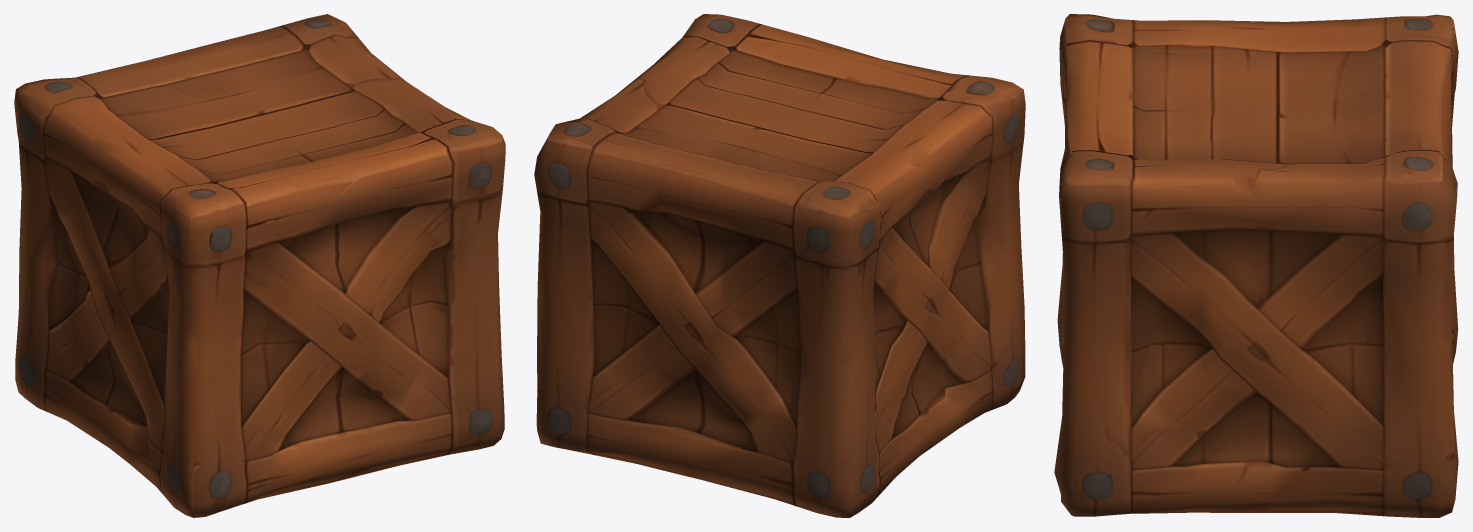
Rendered from crate.glb.
3 views of the same model, side by side, from view 1: azimuth 30°, elevation 25°; view 2: azimuth 150°, elevation 25°; view 3: azimuth 270°, elevation 25° (orthographic). The views are drawn at different scales.
Visible parts, largest first — view 1: tripo_node_3f1543ef; view 2: tripo_node_3f1543ef; view 3: tripo_node_3f1543ef.
Part boxes in pixels (x1,y1,x2,y2): tripo_node_3f1543ef: [14, 14, 505, 517]; tripo_node_3f1543ef: [534, 14, 1025, 517]; tripo_node_3f1543ef: [1054, 14, 1458, 517].
Size of the model in its own units: 0.9159 by 0.85 by 0.8887.
1 material, 1 textured.
